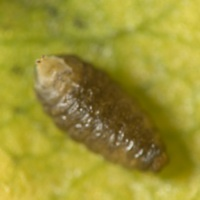insect: (35, 55, 167, 171)
